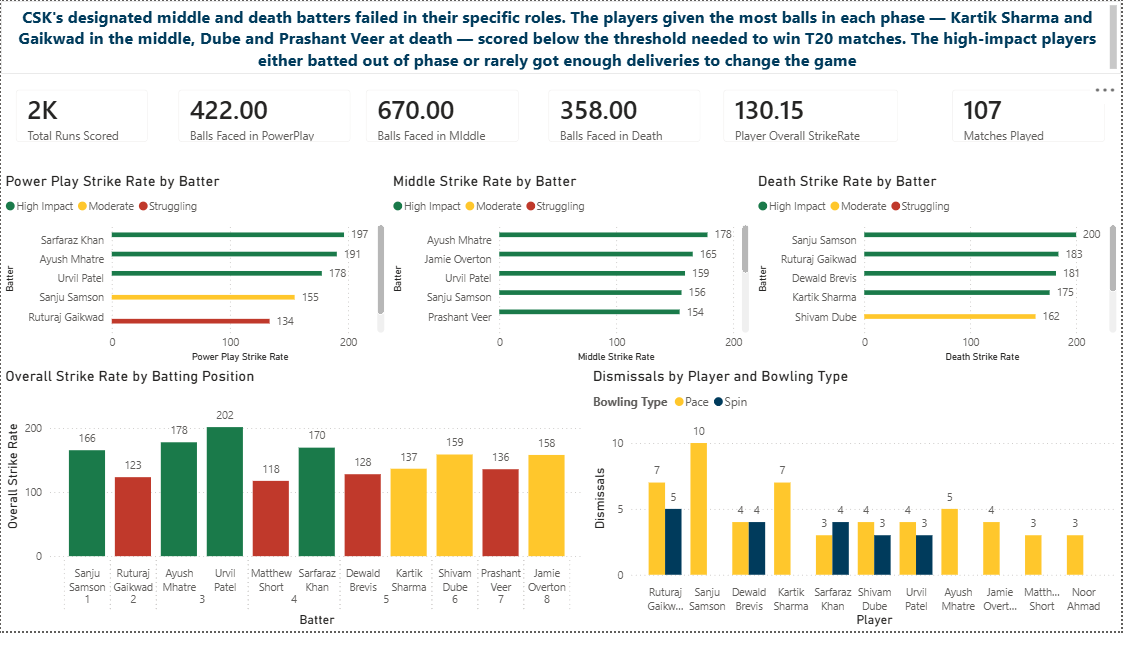

What the dashboard file says about the page in this screenshot:
{"tool":"powerbi","page":{"name":"Batting Performance","canvas":[1280,720],"ordinal":2},"visuals":[{"type":"cardVisual","fields":{"Data":["Sum(batting.PP Balls)"]},"box":[237.4,83.7,231.9,94.7],"z":0},{"type":"cardVisual","fields":{"Data":["Sum(batting.Mid Balls)"]},"box":[529.7,83.7,209.9,94.7],"z":1000},{"type":"cardVisual","fields":{"Data":["Sum(batting.matches)"]},"box":[1070.3,83.7,209.9,94.7],"z":3000},{"type":"cardVisual","fields":{"Data":["Sum(batting.total_runs)"]},"box":[0,83.7,185.2,94.7],"z":4000},{"type":"cardVisual","fields":{"Data":["Sum(batting.Death Balls)"]},"box":[812.4,83.7,208.6,94.7],"z":5000},{"type":"clusteredColumnChart","fields":{"Category":["Batter Dismissals.player"],"Series":["Batter Dismissals.bowling_type"],"Y":["Sum(Batter Dismissals.dismissals)"]},"box":[690.2,418.5,590.1,301.9],"z":6000},{"type":"textbox","box":[0,0,1280.3,83.7],"z":7000},{"type":"clusteredBarChart","title":"Power Play Strike Rate by Batter","fields":{"Category":["batting.player"],"Series":["batting.PP Reliable"],"Y":["Sum(batting.pp_sr)"]},"box":[0,196.2,426.8,211.3],"z":8000},{"type":"clusteredBarChart","title":"Middle Strike Rate by Batter ","fields":{"Category":["batting.player"],"Series":["batting.Mid Reliable"],"Y":["Sum(batting.mid_sr)"]},"box":[443.2,196.2,384.2,211.3],"z":9000},{"type":"clusteredBarChart","title":"Death Strike Rate by Batter","fields":{"Category":["batting.Batter"],"Series":["batting.Death Reliable"],"Y":["Sum(batting.Death Strike Rate)"]},"box":[860.4,196.2,419.9,211.3],"z":10000},{"type":"clusteredColumnChart","title":"Overall Strike Rate by Batting Position","fields":{"Category":["batting.batting_order","batting.Batter"],"Y":["Avg(batting.overall_sr)"]},"box":[0,418.5,640.8,301.9],"z":11000}]}

Visuals, with their boxes in screenshot pixels (x1, y1, x2, y2), scaled from the page's 1280x720 canvas onto the 1130x652 screenshot:
cardVisual - Sum(batting.PP Balls): (left=210, top=76, right=414, bottom=162)
cardVisual - Sum(batting.Mid Balls): (left=468, top=76, right=653, bottom=162)
cardVisual - Sum(batting.matches): (left=945, top=76, right=1129, bottom=162)
cardVisual - Sum(batting.total_runs): (left=0, top=76, right=163, bottom=162)
cardVisual - Sum(batting.Death Balls): (left=717, top=76, right=901, bottom=162)
clusteredColumnChart - Batter Dismissals.player x Batter Dismissals.bowling_type: (left=609, top=379, right=1129, bottom=651)
textbox: (left=0, top=0, right=1129, bottom=76)
"Power Play Strike Rate by Batter" clusteredBarChart: (left=0, top=178, right=377, bottom=369)
"Middle Strike Rate by Batter " clusteredBarChart: (left=391, top=178, right=730, bottom=369)
"Death Strike Rate by Batter" clusteredBarChart: (left=760, top=178, right=1129, bottom=369)
"Overall Strike Rate by Batting Position" clusteredColumnChart: (left=0, top=379, right=566, bottom=651)
